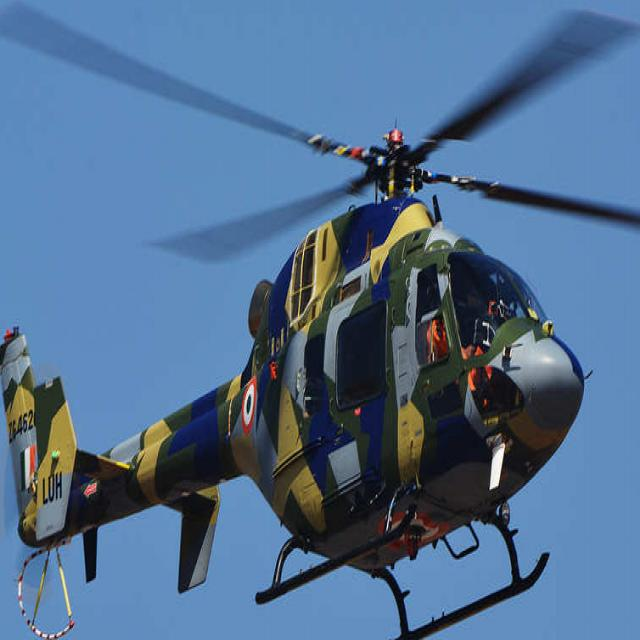helicopter: (1, 4, 640, 640)
